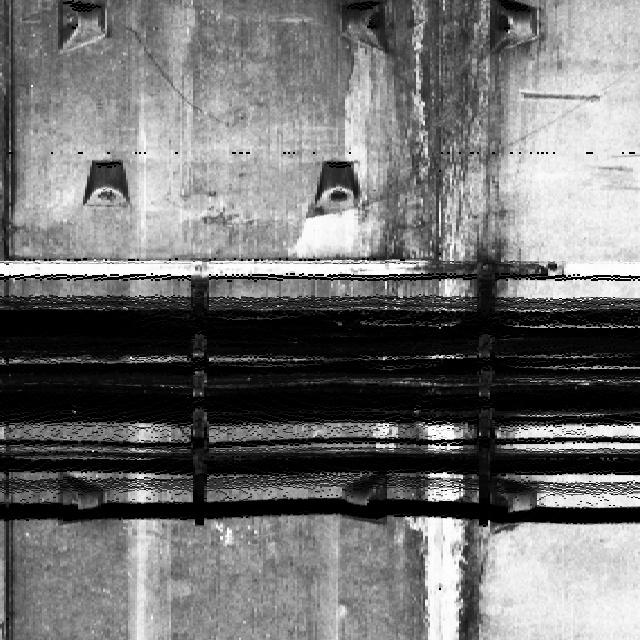leakage: (292, 0, 549, 300), (403, 503, 509, 637)
